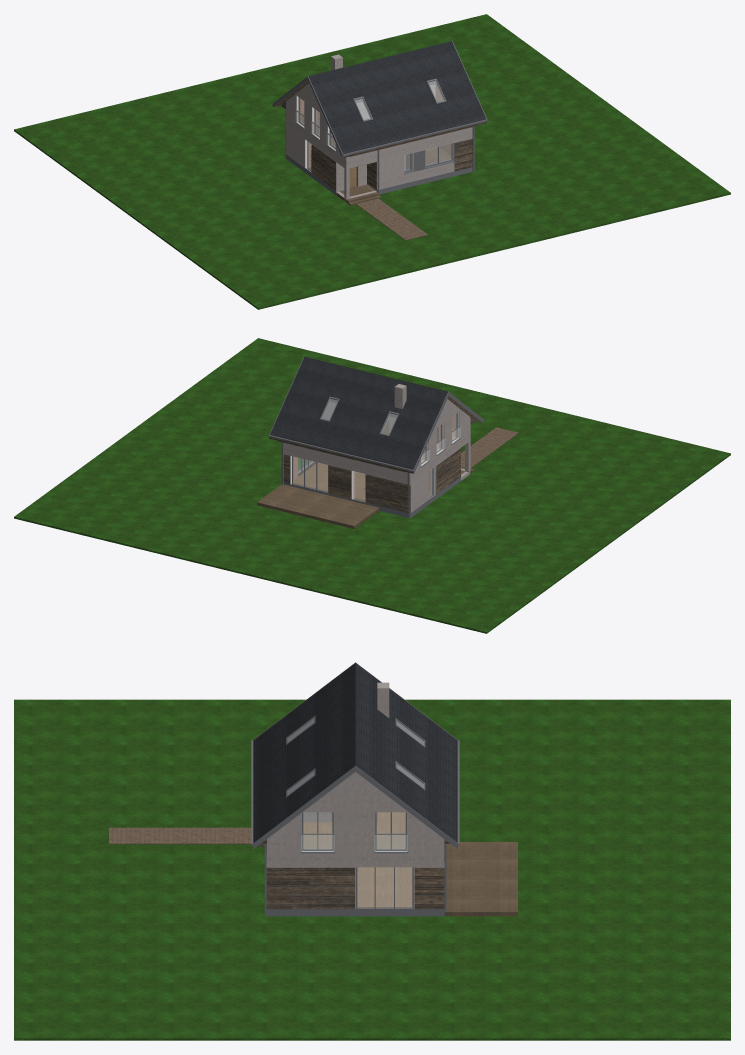
The model's file is dom_w_gnieznikach_unreal.fbx.
The picture shows the model from 3 angles, top to bottom: view 1: azimuth 30°, elevation 25°; view 2: azimuth 150°, elevation 25°; view 3: azimuth 270°, elevation 25°; orthographic projection. The views are drawn at different scales.
Parts seen in each view (by area): view 1: SM_Garden_Lawn, Dach_rp_south, SM_WallMerged_parter_exterior_mat_wall_plaster, SM_Entrance_Walkway, SM_WallMerged_poddasze_gable_wall_mat_wall_plaster, Detal_facade_wood_west_porch, Detal_facade_wood_south_kitchen, Detal_plinth_band_south; view 2: SM_Garden_Lawn, Dach_rp_north, Taras_terrace_north_garden, SM_WallMerged_parter_exterior_mat_wall_plaster, Detal_facade_wood_north_left, SM_WallMerged_poddasze_gable_wall_mat_wall_plaster, SM_Entrance_Walkway, win_p_salon_north_glass, Posadzka_parter_salon_jadalnia, Detal_facade_wood_west_porch, Detal_facade_wood_north_center; view 3: SM_Garden_Lawn, Dach_rp_south, Dach_rp_north, SM_WallMerged_poddasze_gable_wall_mat_wall_plaster, Taras_terrace_north_garden, Detal_facade_wood_east_kitchen, SM_WallMerged_parter_exterior_mat_wall_plaster, SM_Entrance_Walkway, Posadzka_parter_salon_jadalnia, win_p_jadalnia_east_glass, Detal_plinth_band_east, Detal_facade_wood_east_north_corner (+6 smaller).
Boxes of the visible parts, box(x1,y1,x2,y2) form: SM_Garden_Lawn: box(14, 14, 730, 309); Dach_rp_south: box(308, 41, 486, 154); SM_WallMerged_parter_exterior_mat_wall_plaster: box(286, 115, 472, 191); SM_Entrance_Walkway: box(356, 198, 427, 240); SM_WallMerged_poddasze_gable_wall_mat_wall_plaster: box(286, 83, 346, 158); Detal_facade_wood_west_porch: box(311, 145, 336, 190); Detal_facade_wood_south_kitchen: box(454, 138, 474, 171); Detal_plinth_band_south: box(377, 167, 472, 194); SM_Garden_Lawn: box(14, 338, 730, 633); Dach_rp_north: box(270, 356, 447, 469); Taras_terrace_north_garden: box(257, 484, 379, 528); SM_WallMerged_parter_exterior_mat_wall_plaster: box(283, 439, 460, 512); Detal_facade_wood_north_left: box(365, 474, 410, 513); SM_WallMerged_poddasze_gable_wall_mat_wall_plaster: box(410, 399, 470, 474); SM_Entrance_Walkway: box(461, 427, 518, 467); win_p_salon_north_glass: box(293, 456, 327, 492); Posadzka_parter_salon_jadalnia: box(293, 462, 364, 500); Detal_facade_wood_west_porch: box(436, 448, 460, 494); Detal_facade_wood_north_center: box(328, 465, 351, 498); SM_Garden_Lawn: box(14, 699, 730, 1040); Dach_rp_south: box(253, 663, 355, 842); Dach_rp_north: box(355, 663, 457, 842); SM_WallMerged_poddasze_gable_wall_mat_wall_plaster: box(267, 772, 444, 852); Taras_terrace_north_garden: box(444, 842, 517, 916); Detal_facade_wood_east_kitchen: box(267, 867, 354, 909); SM_WallMerged_parter_exterior_mat_wall_plaster: box(267, 852, 444, 909); SM_Entrance_Walkway: box(109, 827, 251, 844); Posadzka_parter_salon_jadalnia: box(357, 867, 412, 907); win_p_jadalnia_east_glass: box(357, 867, 411, 907); Detal_plinth_band_east: box(267, 909, 444, 916); Detal_facade_wood_east_north_corner: box(414, 867, 444, 909).
Bounding box in the file's own units: 3800 × 3400 × 853.
15 materials, 10 textured.
